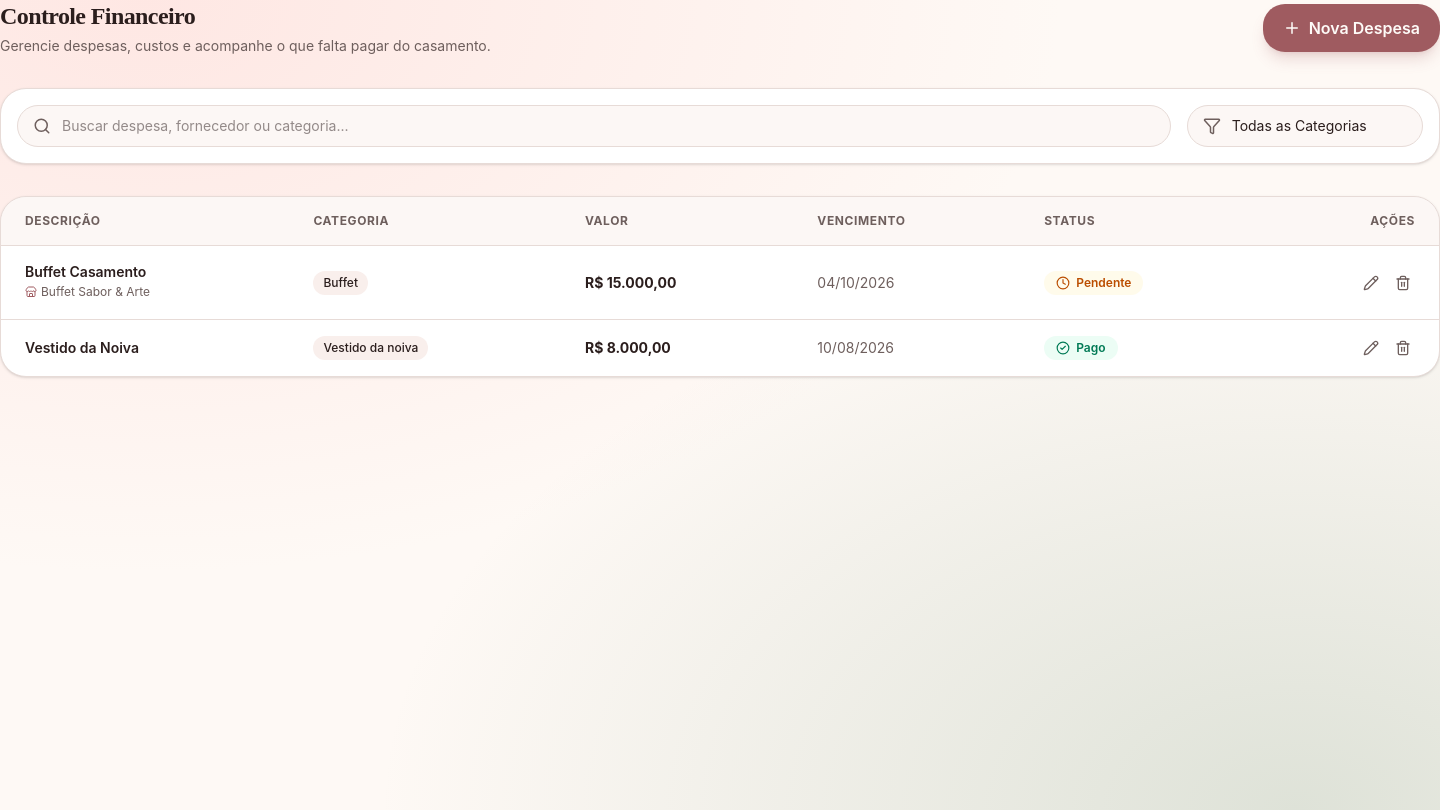
Test: FinanceiroPage Component › deve criar uma nova despesa vinculada a fornecedor pelo modal
Check: the text "Buffet Casamento" is shown, box x1=25 y1=263 x2=146 y2=280
Click the button "Nova Despesa": (1351, 28) x1=1263 y1=4 x2=1439 y2=52
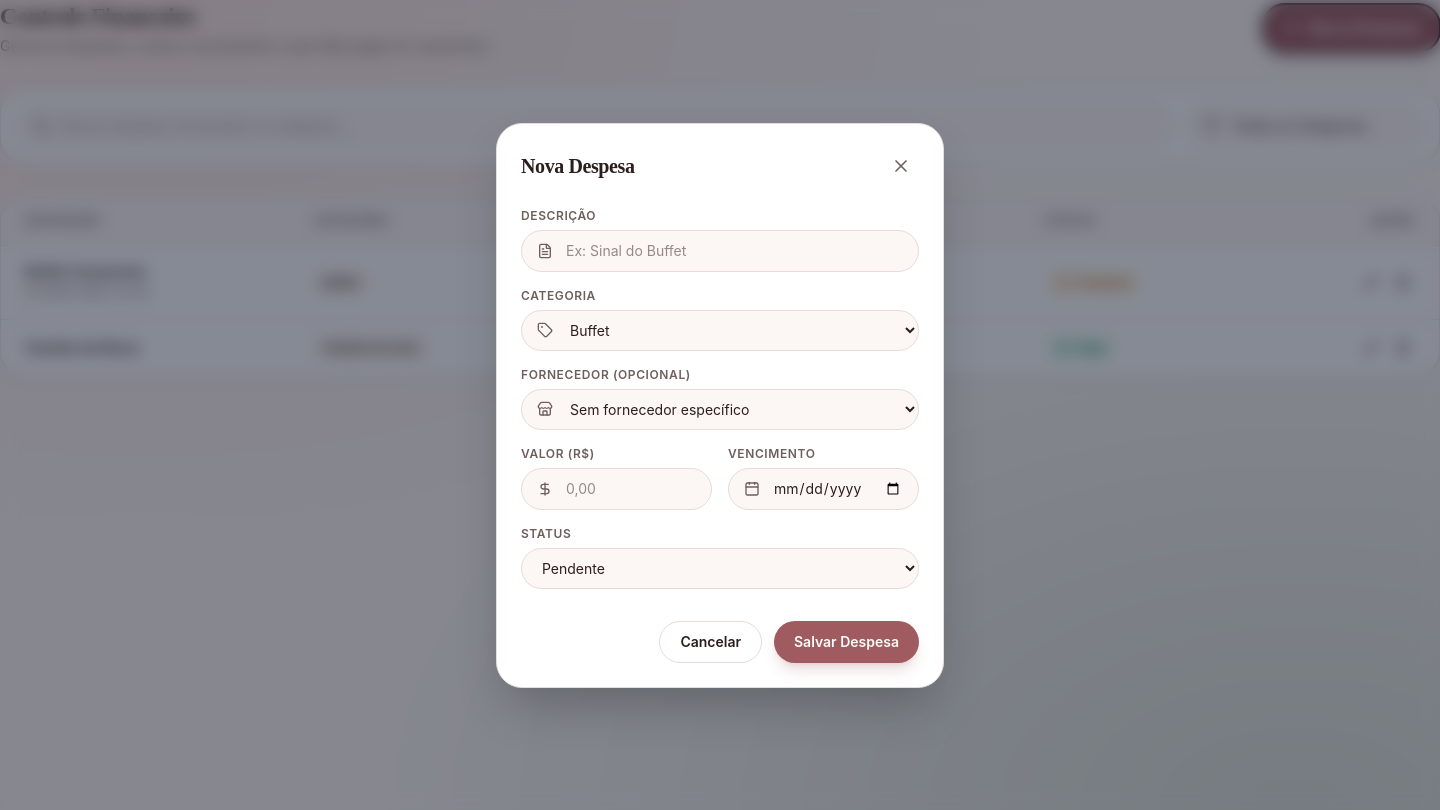
In the field with placeholder "Ex: Sinal do Buffet": (720, 250) x1=521 y1=230 x2=919 y2=272, type "Jantar Degustação"
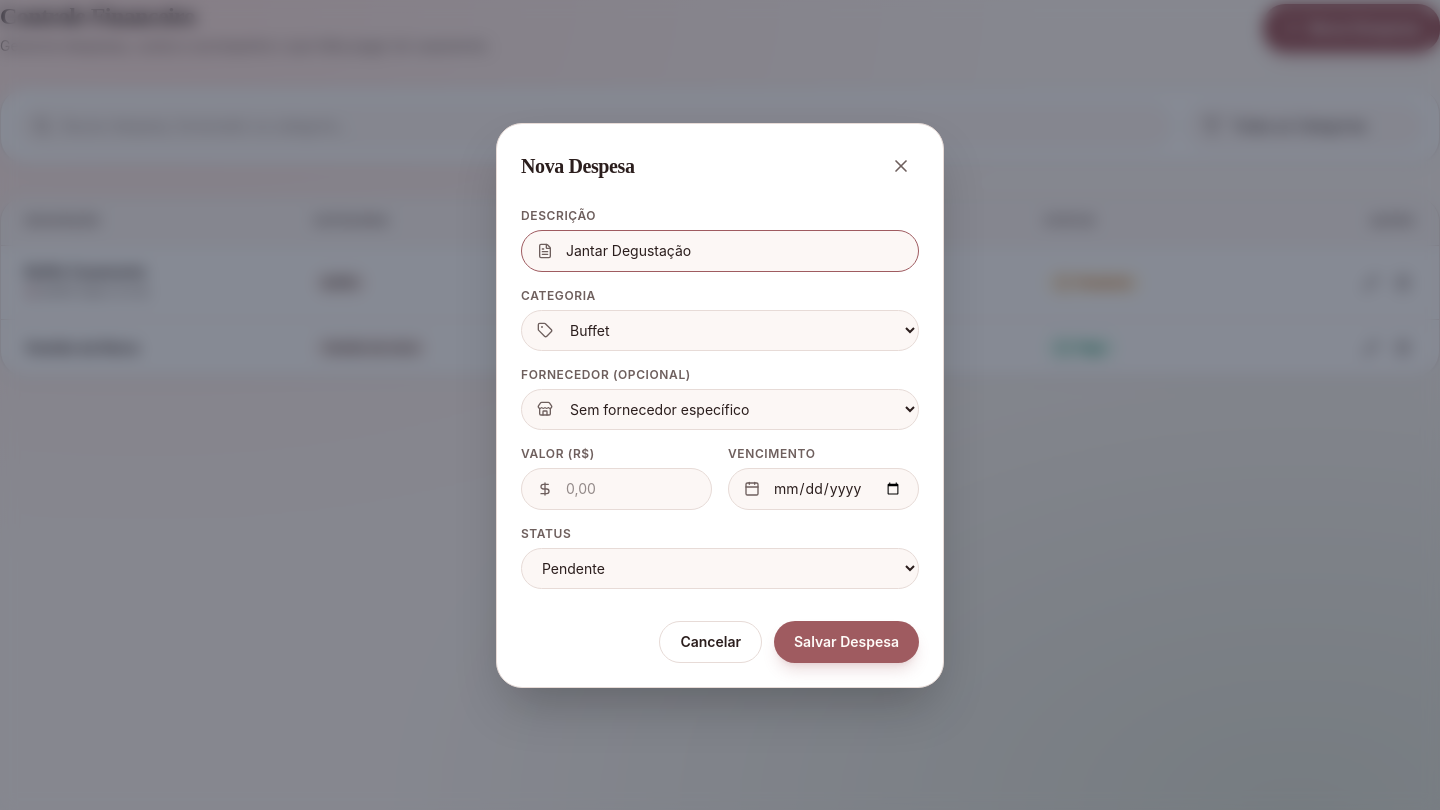
In the number field with placeholder "0,00": (616, 488) x1=521 y1=468 x2=712 y2=510, type "950"
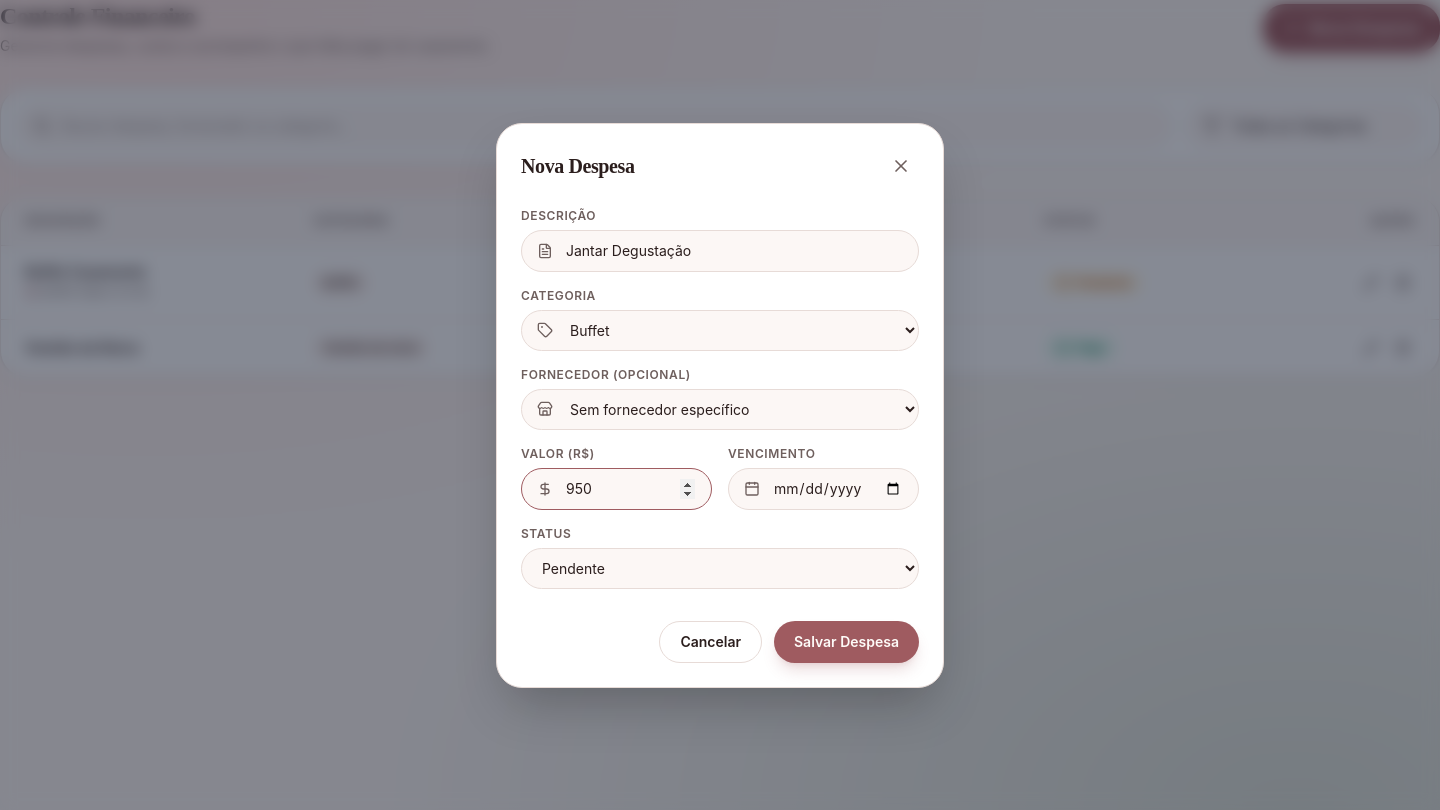
Select "Buffet Sabor & Arte" in the dropdown labelled "Fornecedor (opcional)": (720, 409) x1=521 y1=388 x2=919 y2=430
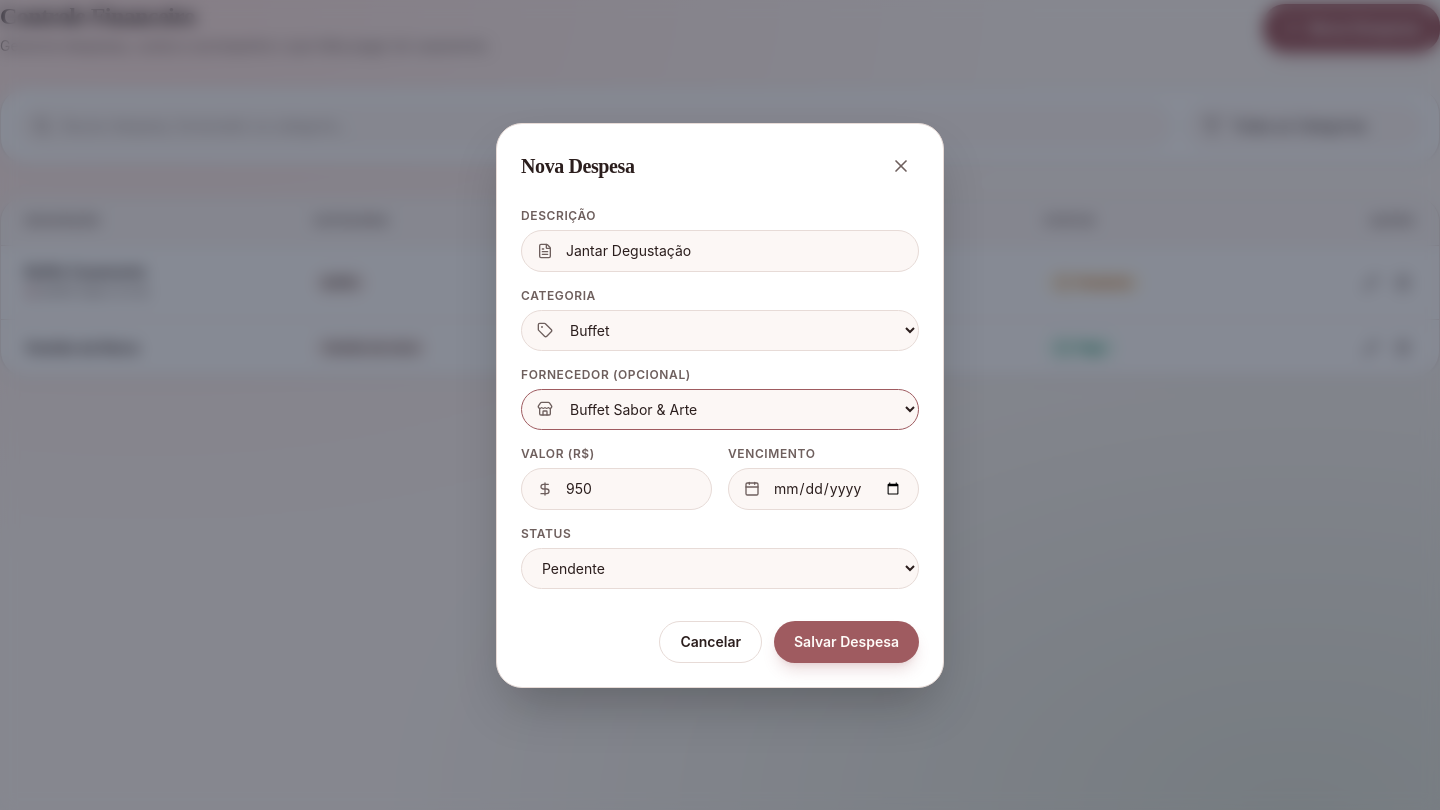
In the date field labelled "Vencimento": (824, 488) x1=728 y1=468 x2=919 y2=510, type "2026-09-15"
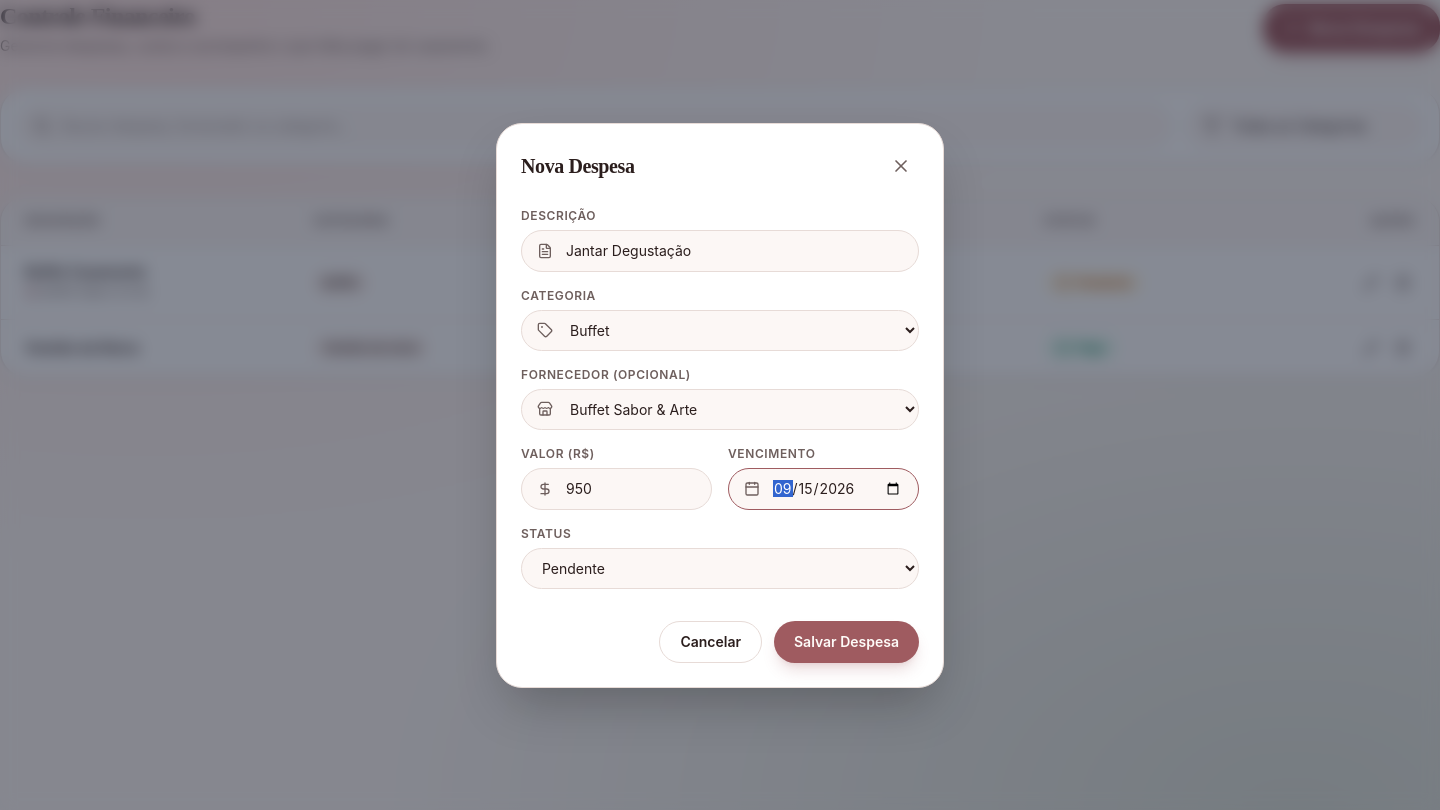
Click the button "Salvar Despesa": (846, 642) x1=774 y1=620 x2=919 y2=662
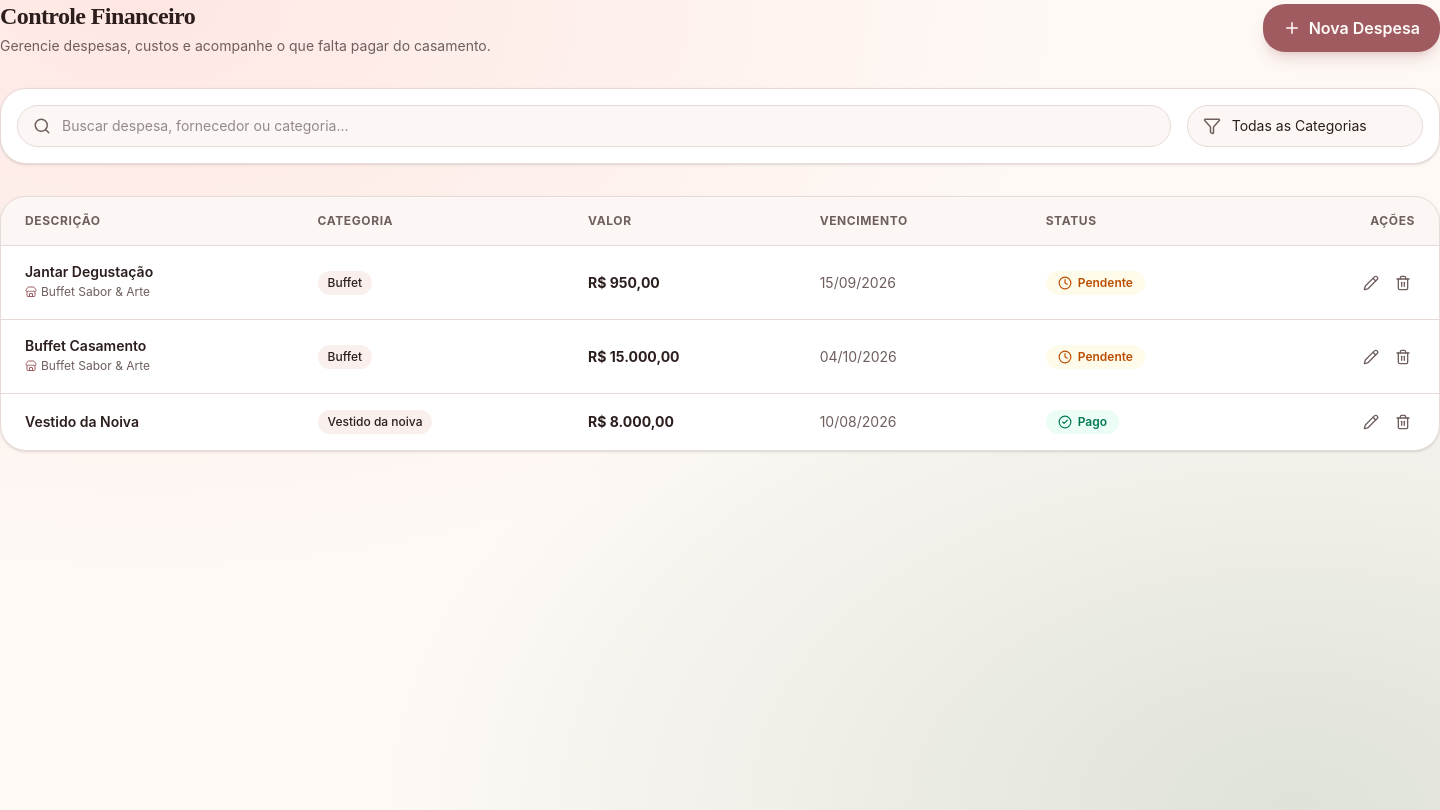
Check: the text "Jantar Degustação" is shown, box x1=25 y1=263 x2=153 y2=280
